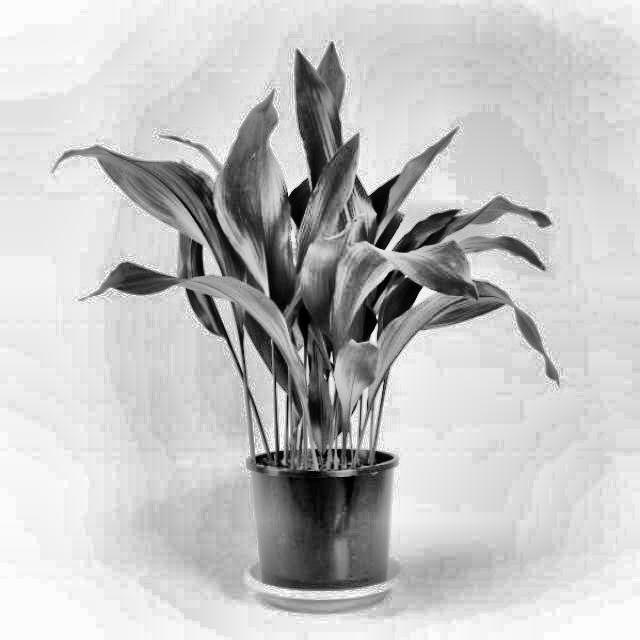plants: (40, 41, 569, 609)
